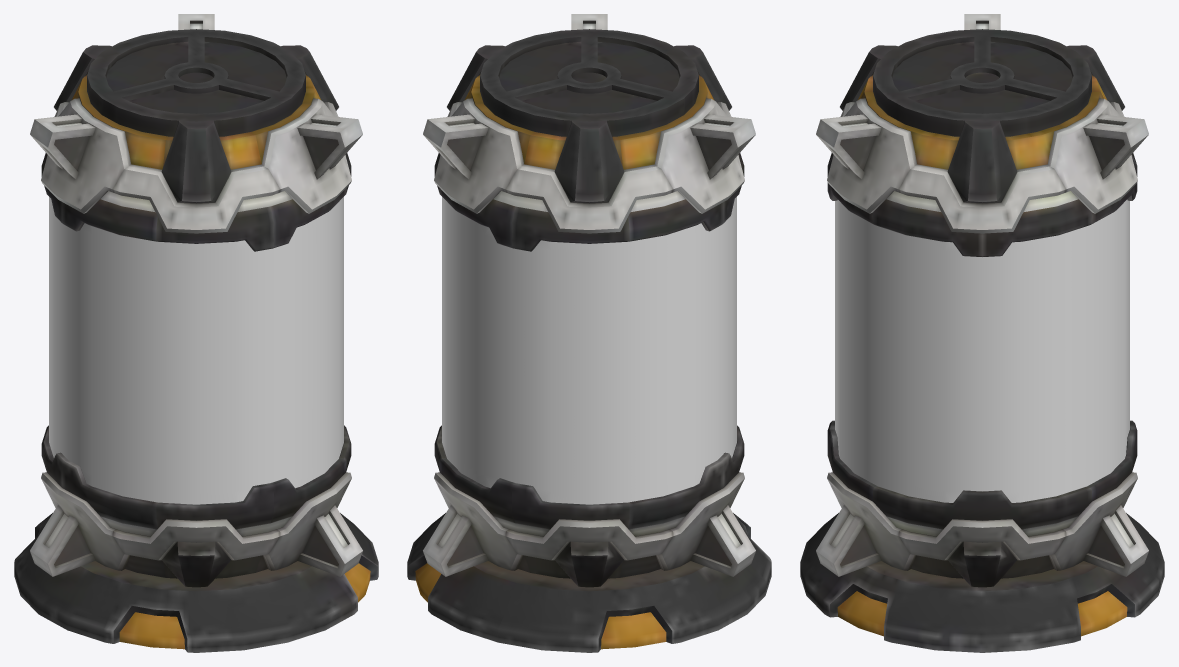
Rendered from SM_PalBedFuturistic_397eb6.glb.
3 views of the same model, side by side, from view 1: azimuth 30°, elevation 25°; view 2: azimuth 150°, elevation 25°; view 3: azimuth 270°, elevation 25° (orthographic).
Bounding box in the file's own units: 2 × 3.03 × 2.
Materials: 2 (1 with a texture image).
